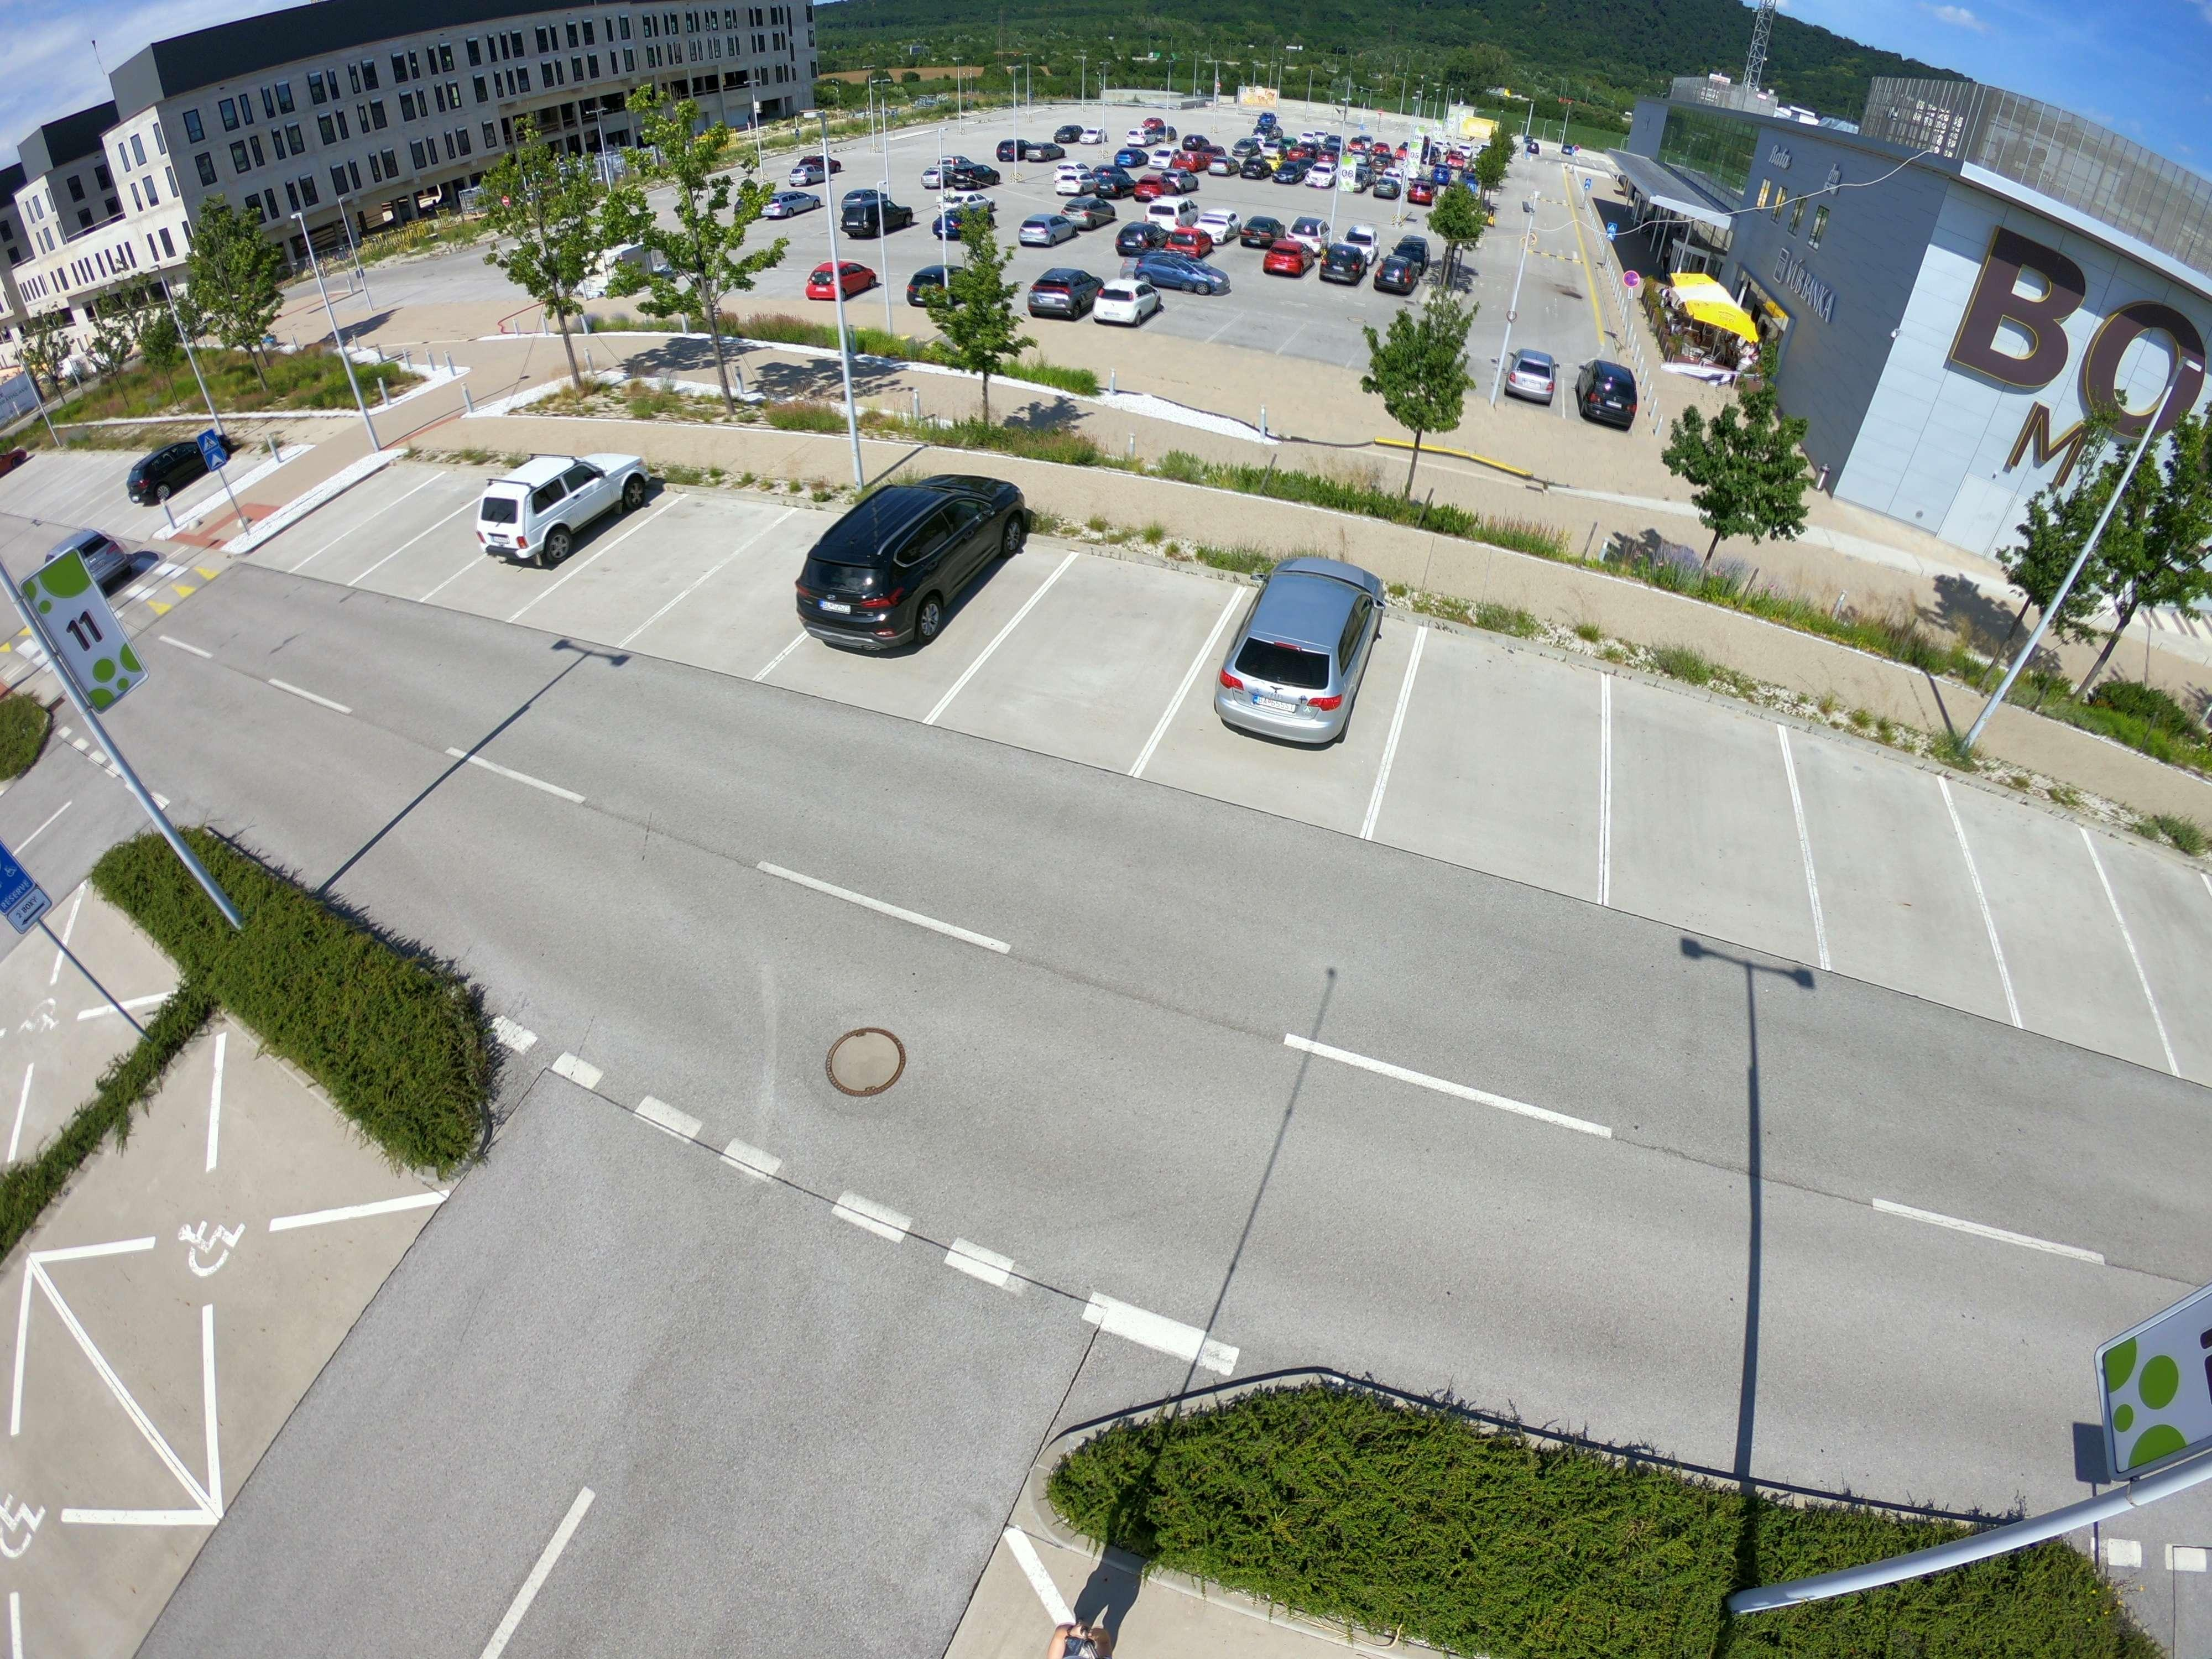empty: (796, 474, 1036, 650), (1202, 565, 1400, 746), (470, 451, 660, 566), (113, 434, 221, 505), (1575, 354, 1655, 429), (1496, 345, 1571, 410), (1122, 216, 1216, 261), (1022, 268, 1101, 322), (1141, 253, 1233, 296), (1085, 281, 1158, 333), (829, 195, 906, 244), (1005, 202, 1090, 246), (1372, 239, 1433, 293), (1313, 237, 1374, 289), (1261, 234, 1315, 279), (934, 157, 998, 193)
occupied: (1418, 690, 1608, 833), (1629, 762, 1796, 897), (1818, 823, 1970, 958), (1993, 868, 2128, 999), (1031, 603, 1177, 690), (707, 565, 813, 647), (415, 518, 498, 572), (620, 533, 716, 580), (909, 380, 993, 427), (1287, 326, 1359, 369), (320, 486, 371, 537), (359, 518, 406, 561), (1167, 312, 1231, 338)
